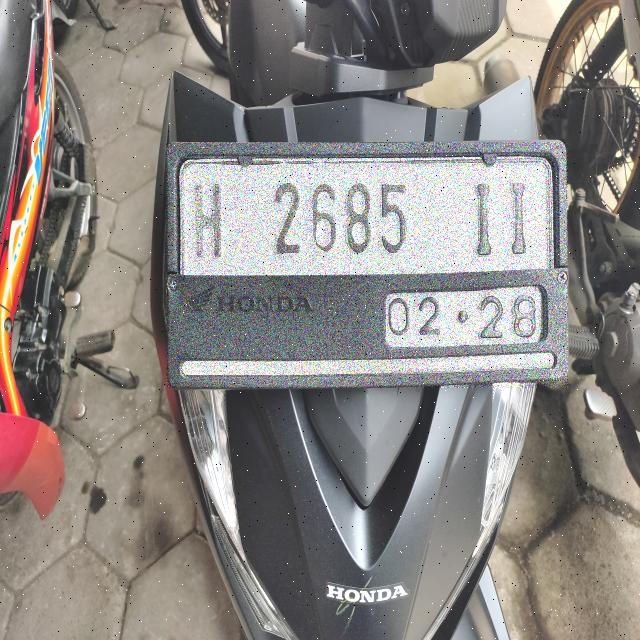plate: (167, 142, 567, 387), (181, 158, 551, 274)
